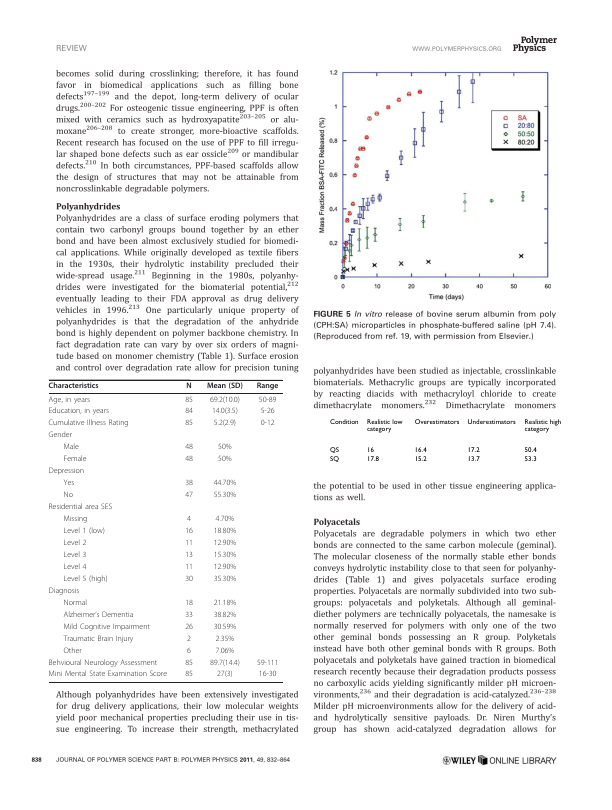borderless: (48, 378, 283, 682), (324, 416, 564, 474)
cell: (48, 670, 168, 680), (48, 658, 158, 668), (62, 622, 151, 632), (48, 419, 130, 429), (62, 610, 134, 620), (62, 634, 134, 644), (523, 418, 562, 434), (48, 407, 110, 417), (365, 418, 403, 434), (48, 503, 113, 512), (48, 382, 99, 391), (466, 418, 516, 427), (48, 395, 91, 405), (413, 418, 460, 427), (62, 575, 109, 584), (62, 527, 106, 536), (206, 382, 244, 391), (48, 467, 85, 476), (209, 395, 241, 405), (209, 658, 241, 668), (48, 587, 80, 596), (211, 407, 239, 417), (329, 418, 359, 427), (62, 598, 88, 608), (48, 431, 73, 441), (213, 419, 237, 429), (213, 598, 237, 608), (213, 610, 237, 620), (213, 622, 237, 632), (62, 515, 88, 524), (256, 658, 279, 668), (62, 455, 87, 464), (62, 539, 87, 548), (62, 551, 87, 560), (62, 563, 87, 572), (213, 479, 237, 488), (213, 491, 237, 500), (213, 527, 237, 536), (213, 539, 237, 548), (213, 551, 237, 560), (213, 563, 237, 572), (213, 575, 237, 584), (214, 634, 235, 644), (62, 646, 83, 656), (214, 646, 235, 656), (256, 382, 279, 391), (258, 395, 277, 405), (258, 670, 277, 680), (214, 515, 235, 524), (62, 443, 80, 453), (216, 670, 234, 680), (260, 407, 275, 417), (260, 419, 275, 429), (217, 443, 232, 453), (217, 455, 232, 464), (413, 446, 427, 455), (466, 446, 480, 455), (523, 446, 537, 455), (365, 455, 379, 464), (413, 455, 427, 464), (466, 455, 480, 464), (523, 455, 537, 464), (62, 479, 75, 488), (62, 491, 74, 500), (184, 395, 194, 405), (184, 407, 194, 417), (184, 419, 194, 429), (184, 443, 194, 453), (184, 598, 194, 608), (184, 610, 194, 620), (184, 622, 194, 632), (184, 658, 194, 668), (184, 670, 194, 680), (329, 446, 339, 455), (329, 455, 339, 464), (184, 455, 194, 464), (184, 479, 194, 488), (184, 491, 194, 500), (184, 527, 194, 536), (184, 539, 194, 548), (184, 551, 194, 560), (184, 563, 194, 572), (184, 575, 194, 584), (365, 446, 374, 455), (185, 382, 193, 391), (186, 634, 192, 644), (186, 646, 192, 656), (186, 515, 192, 524)
